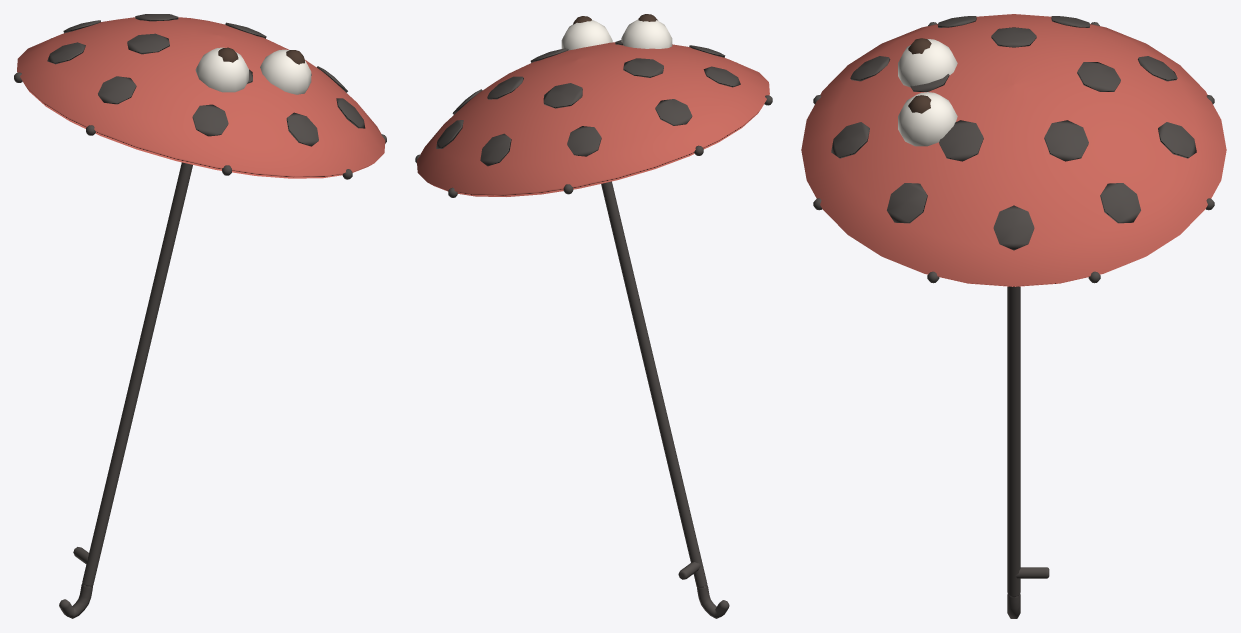
The model's file is ladybug_umbrella.glb.
The picture shows the model from 3 angles, left to right: view 1: azimuth 30°, elevation 25°; view 2: azimuth 150°, elevation 25°; view 3: azimuth 270°, elevation 25°; orthographic projection. The views are drawn at different scales.
Visible parts, largest first — view 1: ladybug_umbrella_ArmR; view 2: ladybug_umbrella_ArmR; view 3: ladybug_umbrella_ArmR.
Part boxes in pixels (x1,y1,x2,y2): ladybug_umbrella_ArmR: (14, 14, 386, 618); ladybug_umbrella_ArmR: (415, 14, 772, 618); ladybug_umbrella_ArmR: (801, 14, 1226, 618).
Size of the model in its own units: 0.8703 by 1.5 by 0.9.
